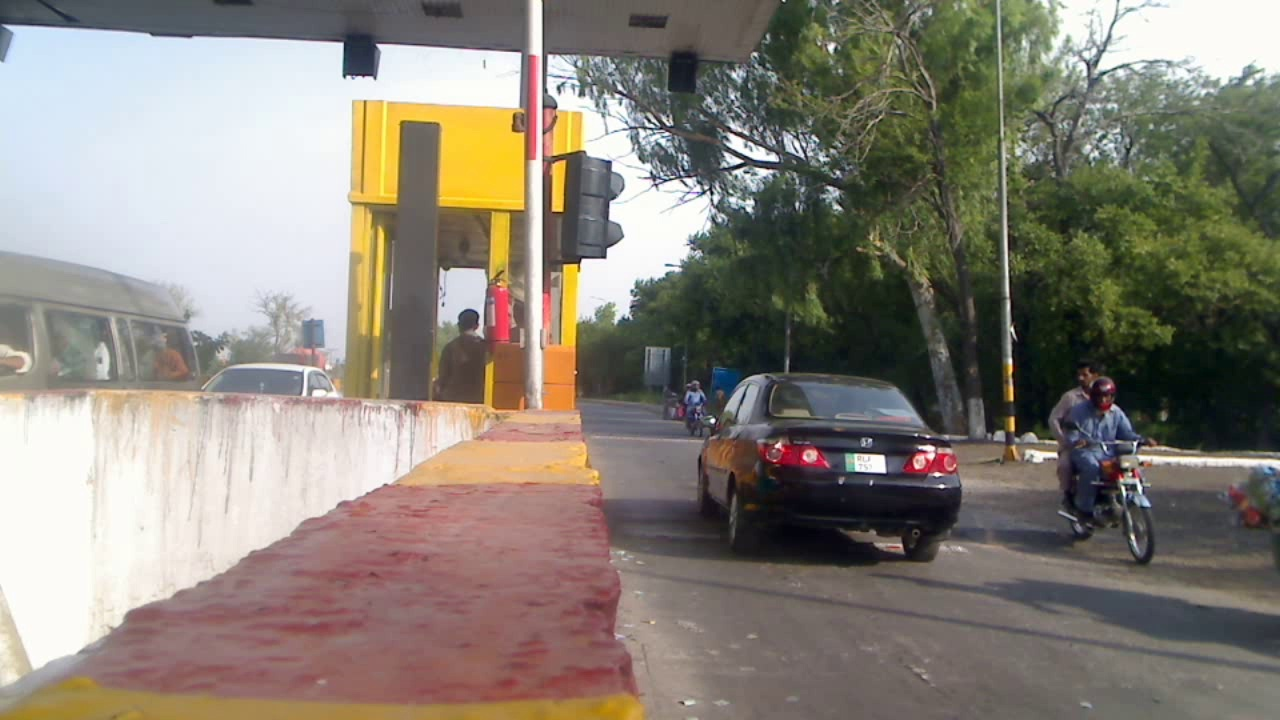Number Plate (Car): (846, 454, 884, 469)
